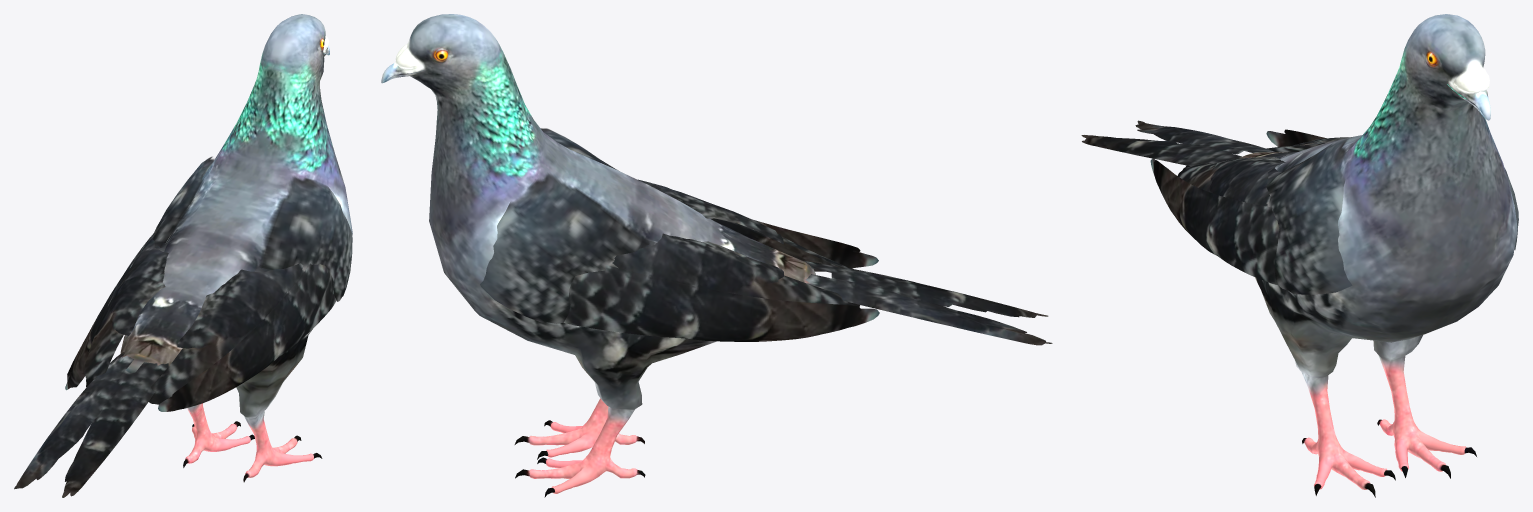
File: pigeon.glb
The picture shows the model from 3 angles, left to right: view 1: azimuth 30°, elevation 25°; view 2: azimuth 150°, elevation 25°; view 3: azimuth 270°, elevation 25°; orthographic projection. The views are drawn at different scales.
Parts seen in each view (by area): view 1: Object_4; view 2: Object_4; view 3: Object_4.
Boxes of the visible parts, bbox=[...] form: Object_4: bbox=[14, 14, 352, 497]; Object_4: bbox=[381, 14, 1052, 497]; Object_4: bbox=[1081, 14, 1518, 497].
Bounding box in the file's own units: 0.3532 × 0.293 × 0.2346.
Materials: 1 (1 with a texture image).
